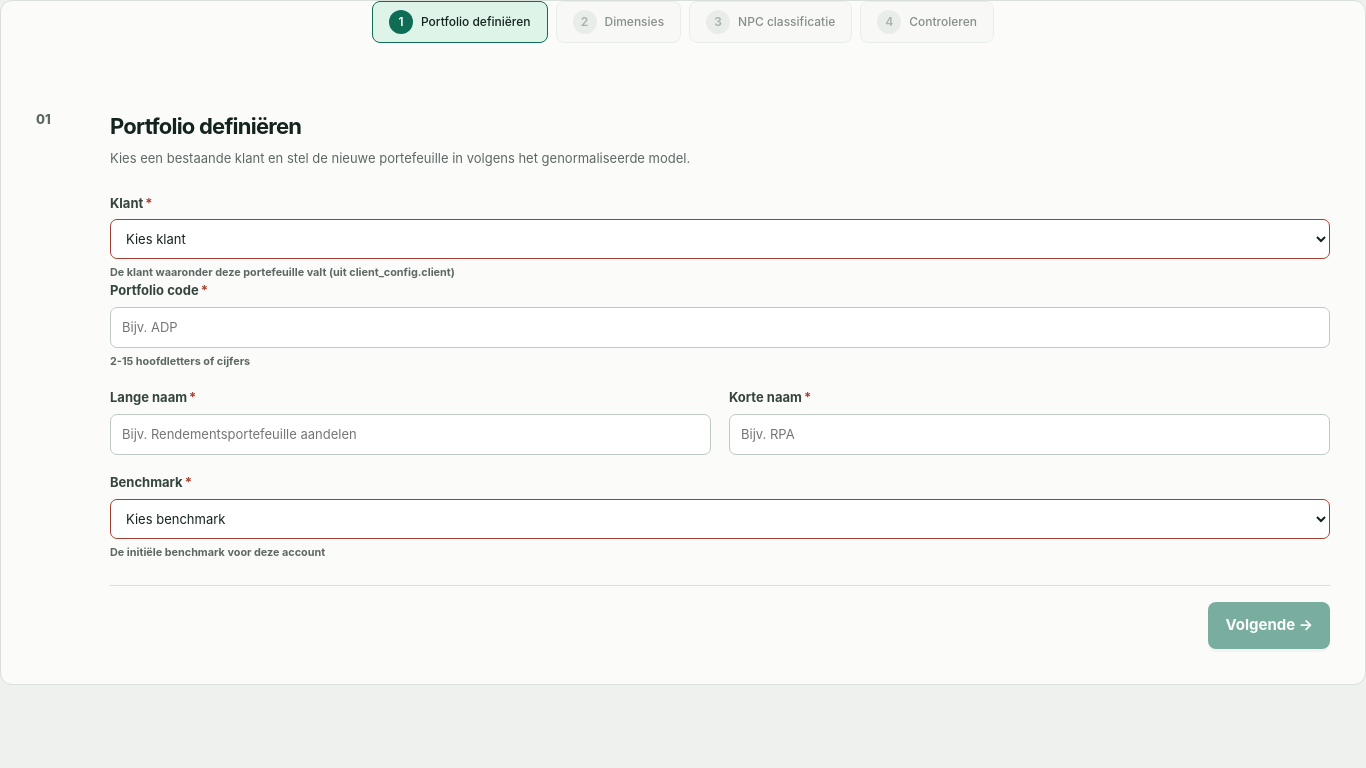
Test: PortfolioConfigurationCreateForm › suggests the selected client's active, schema-valid portfolios and resets on client switch
Select "HOR — Pensioenfonds Horizon" in the dropdown labelled "Klant". click: (720, 239)
box: [110,219,1330,259]
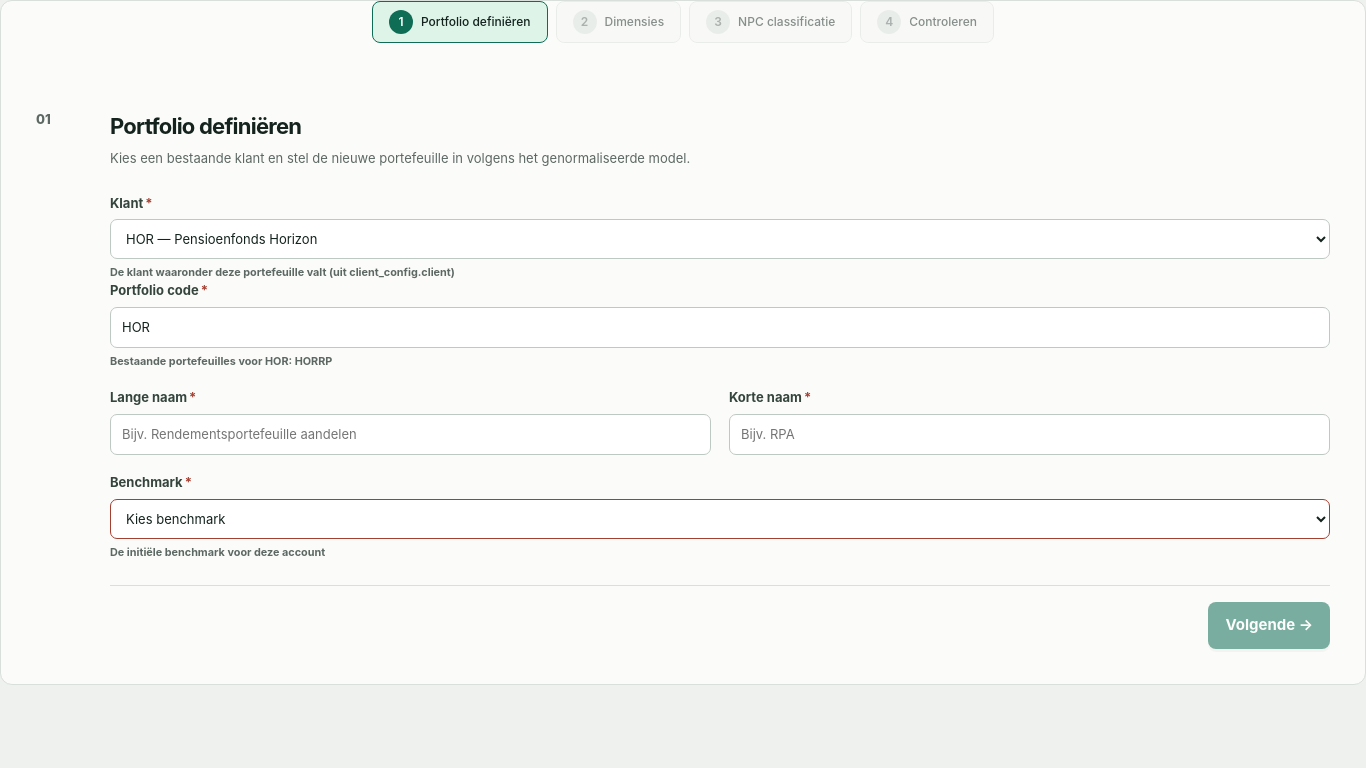
Note: Switching client resets the portfolio code to the new client's prefix
Select "ZEK — Stichting Pensioen Zeker" in the dropdown labelled "Klant". click: (720, 239)
box: [110,219,1330,259]
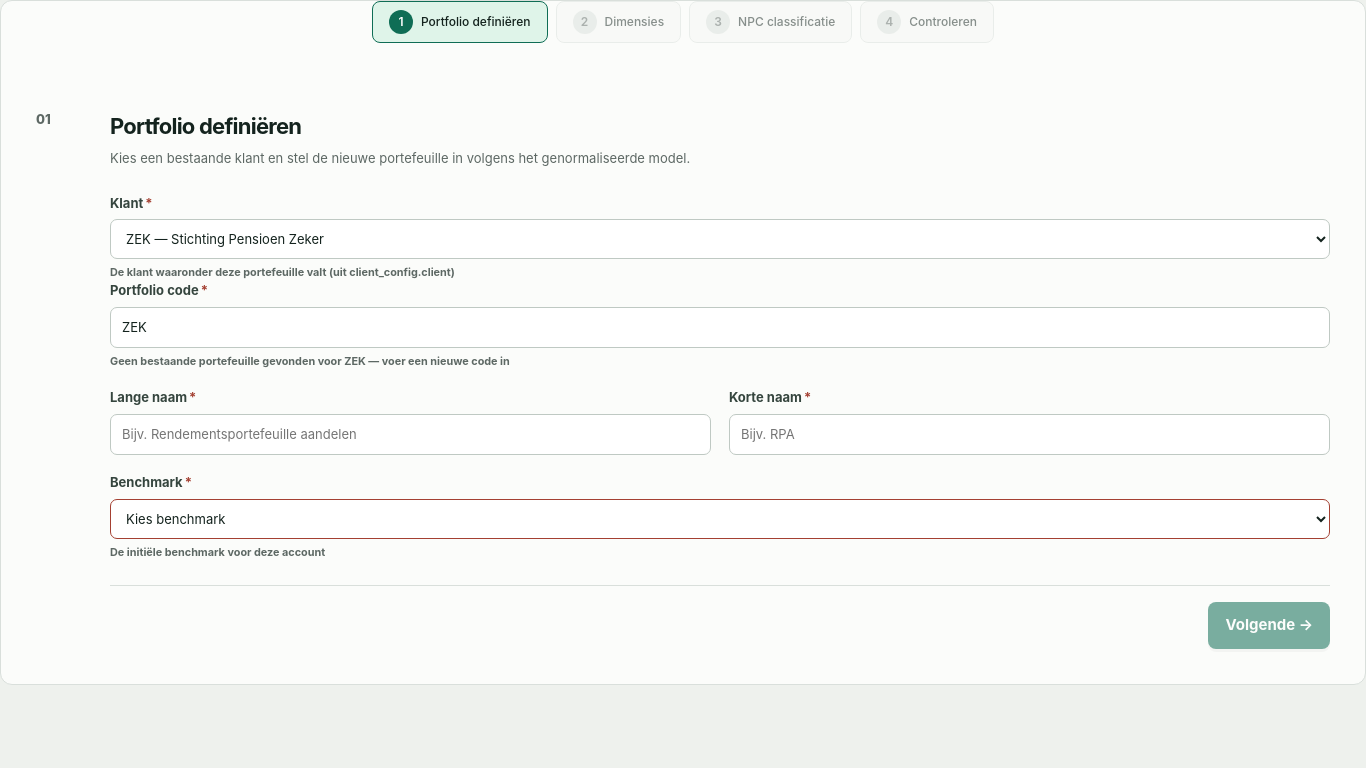
Check: the field labelled "Portfolio code" holds "ZEK", box [110,307,1330,348]
